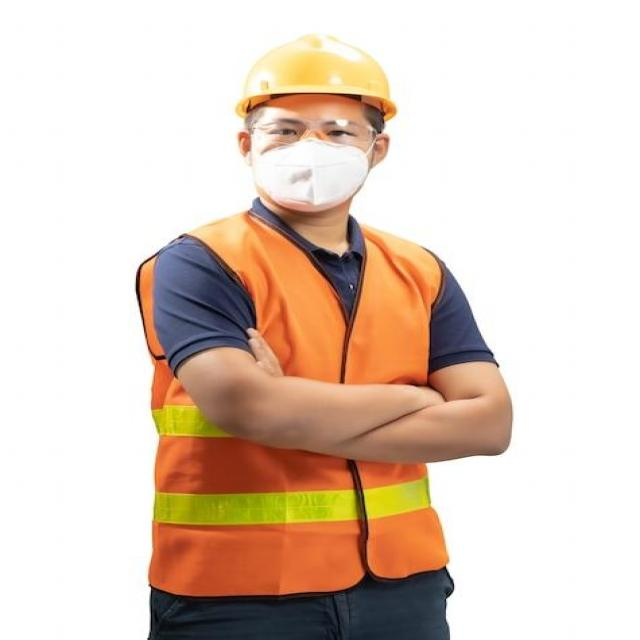Reflective-Jacket: (133, 209, 449, 603)
Safety-Helmet: (229, 30, 399, 120)
